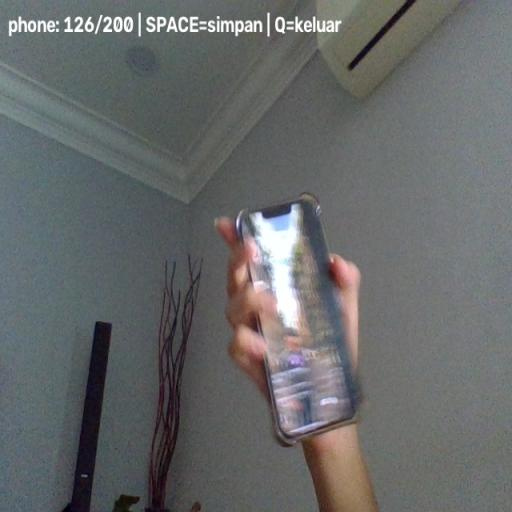Phone: (236, 194, 362, 446)
